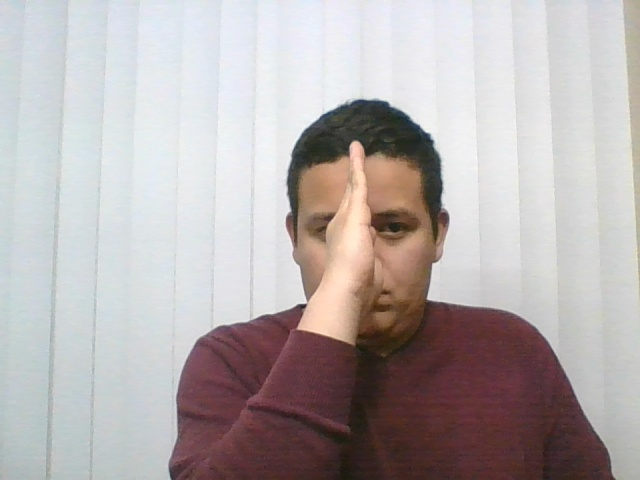God: (231, 129, 446, 336)
